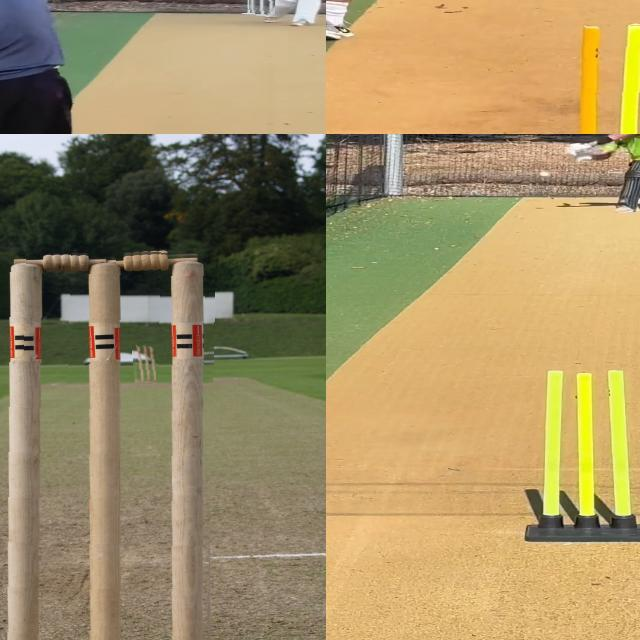Cricket ball: (538, 171, 551, 178)
Stumps: (2, 249, 216, 640), (562, 23, 640, 134), (131, 340, 156, 383), (246, 0, 275, 16)
